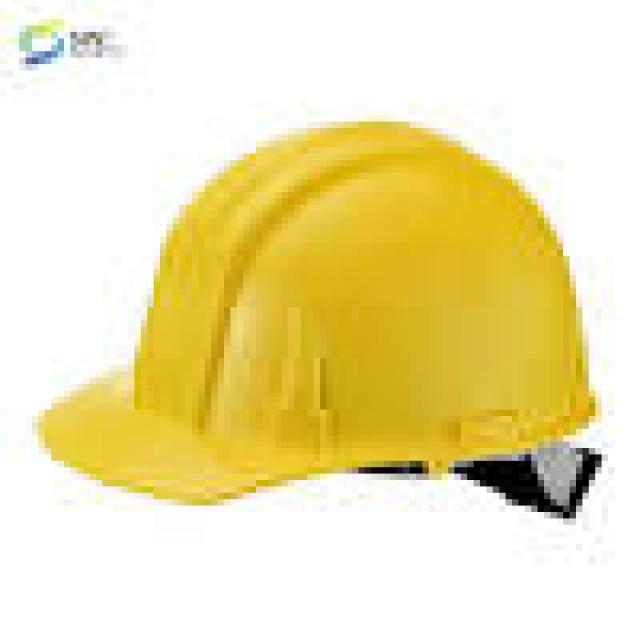Safety-Helmet: (25, 108, 640, 505)
